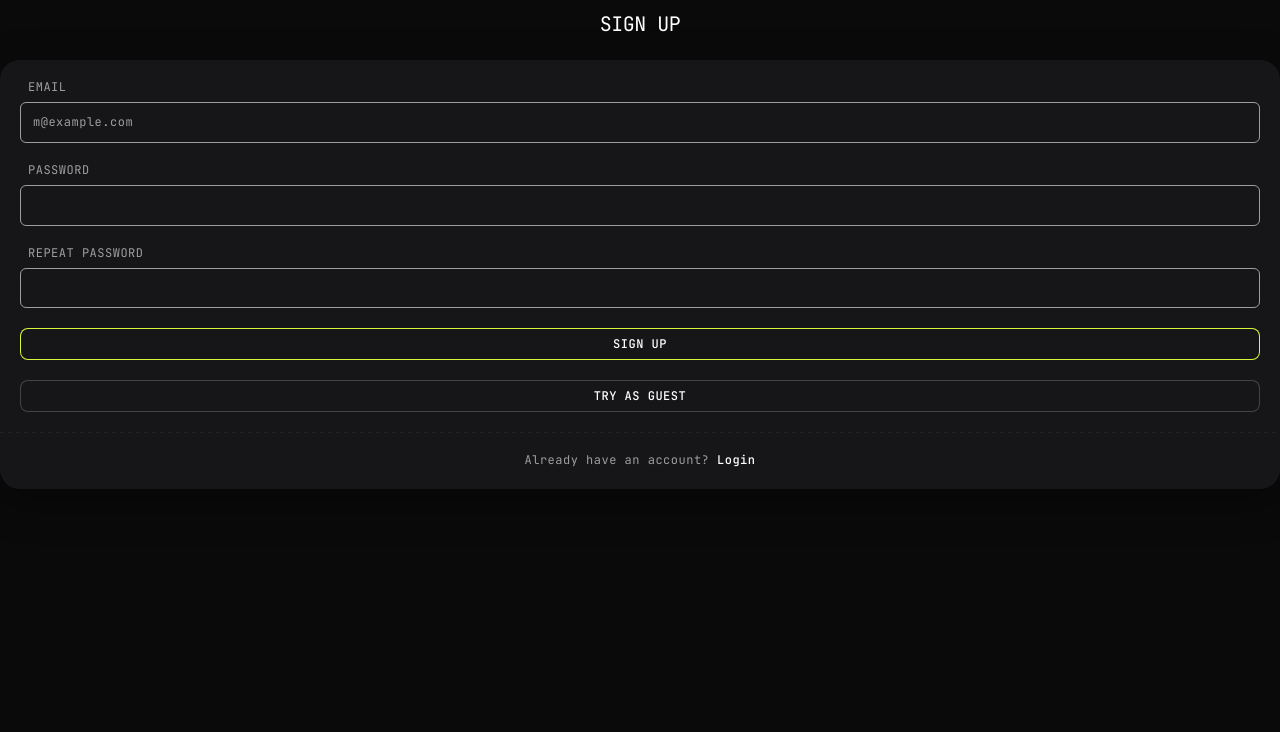
Test: SignUpForm › resets the loading state when sign-up fails
Type "user@example.test" into the field labelled "Email" at (640, 123), box [20, 102, 1260, 143]
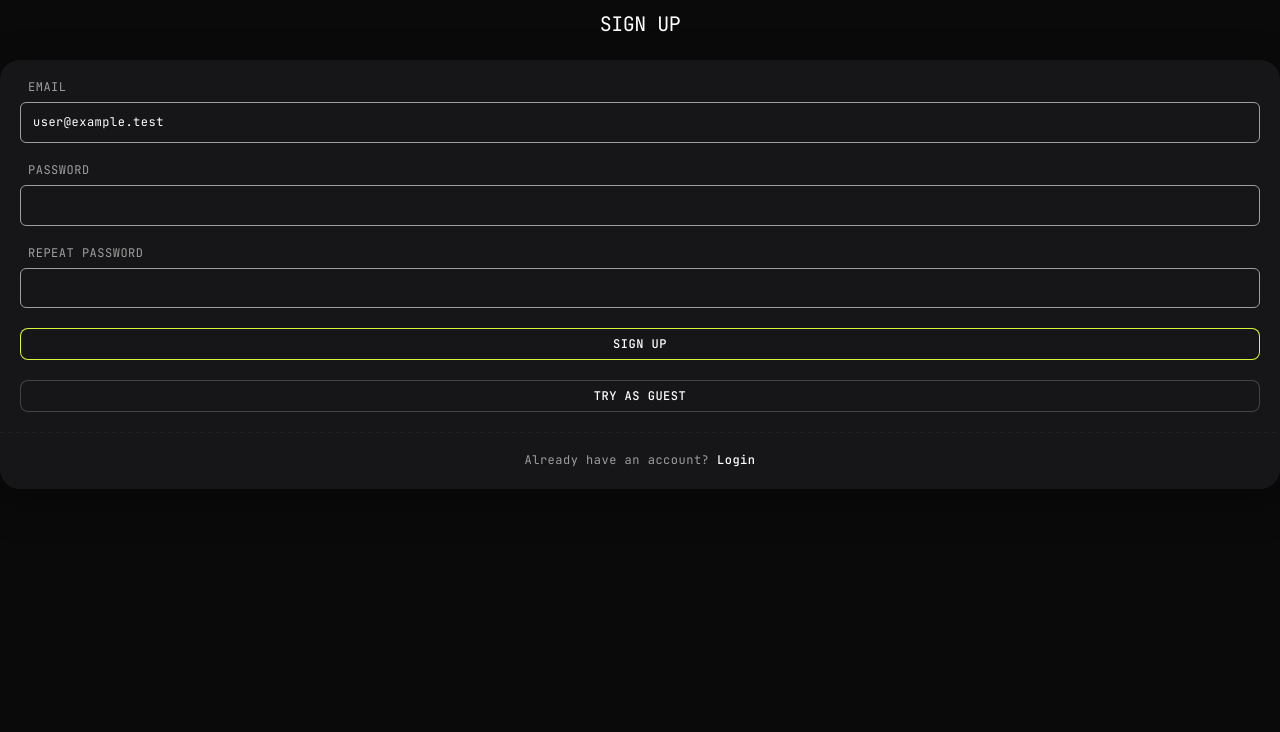
Type "password" into the password field labelled "Password" at (640, 205), box [20, 185, 1260, 226]
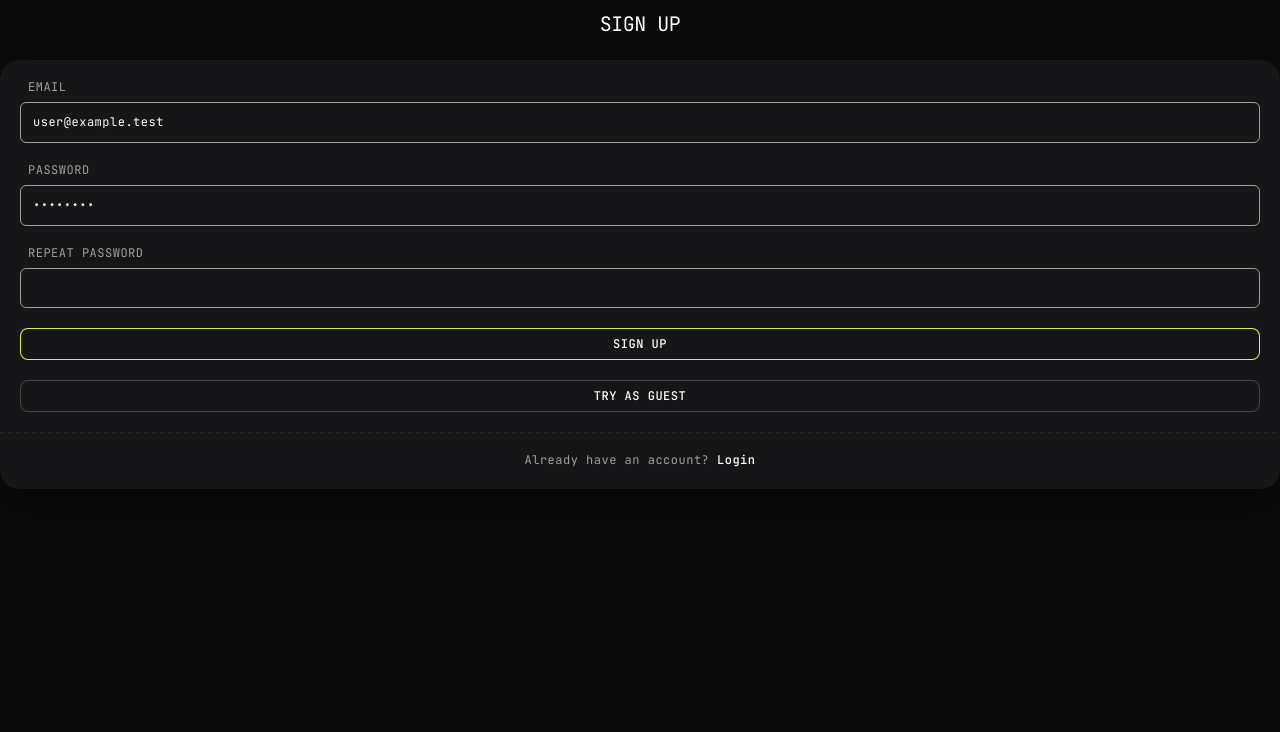
Type "password" into the password field labelled "Repeat Password" at (640, 288), box [20, 268, 1260, 308]
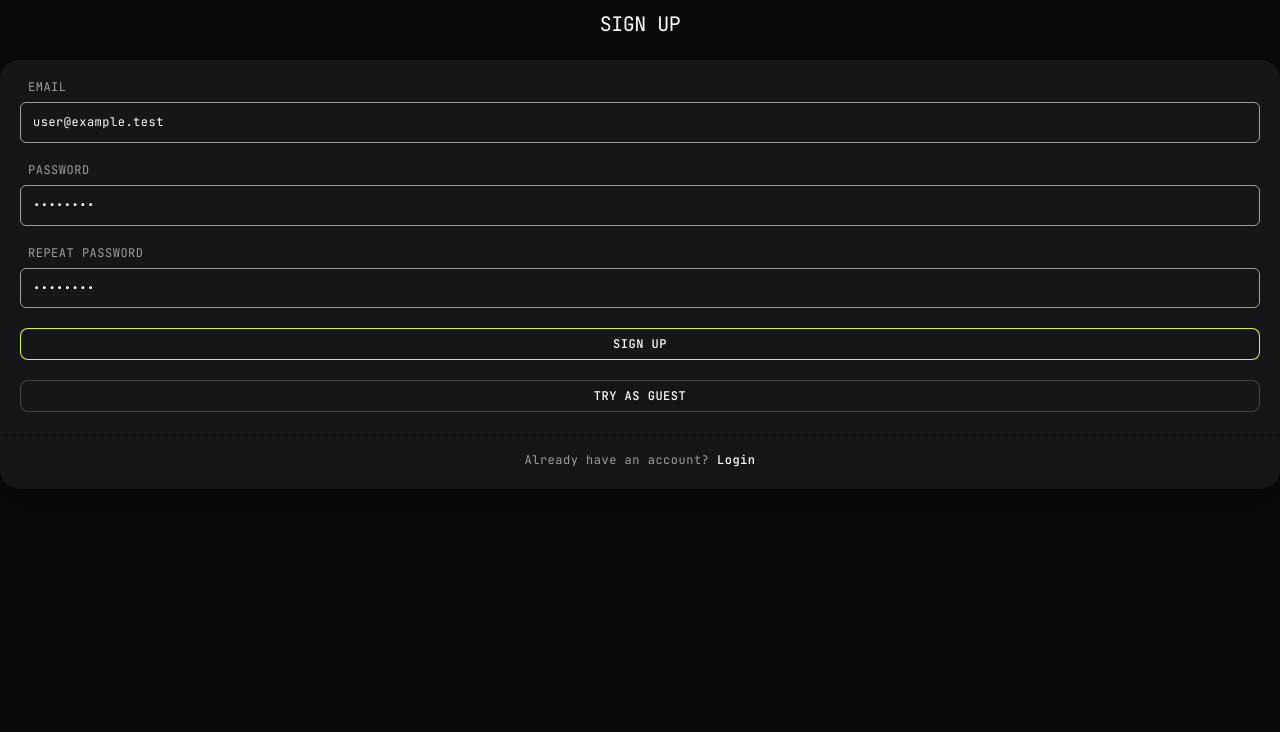
Submit the form from the button "Sign up", box [20, 328, 1260, 360]
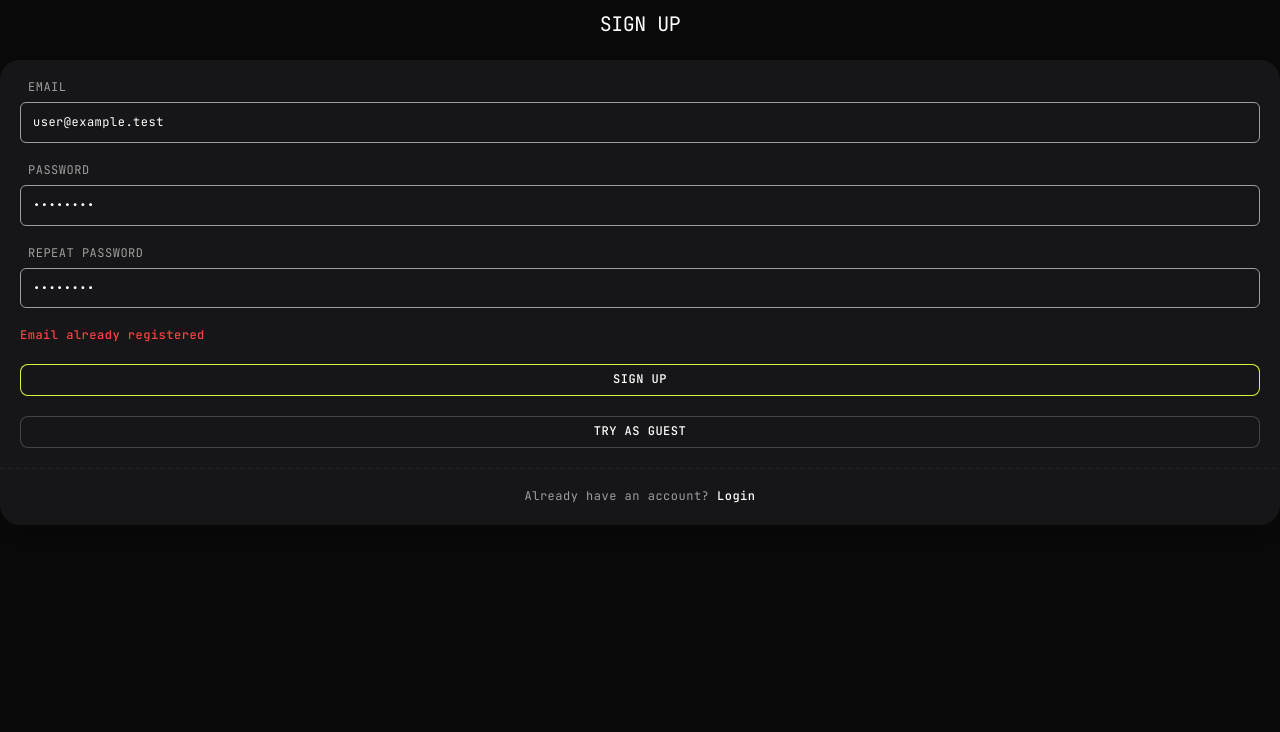
Check: the button "Sign up" is enabled, box [20, 364, 1260, 396]
Check: the text "Email already registered" is shown, box [20, 327, 205, 343]
